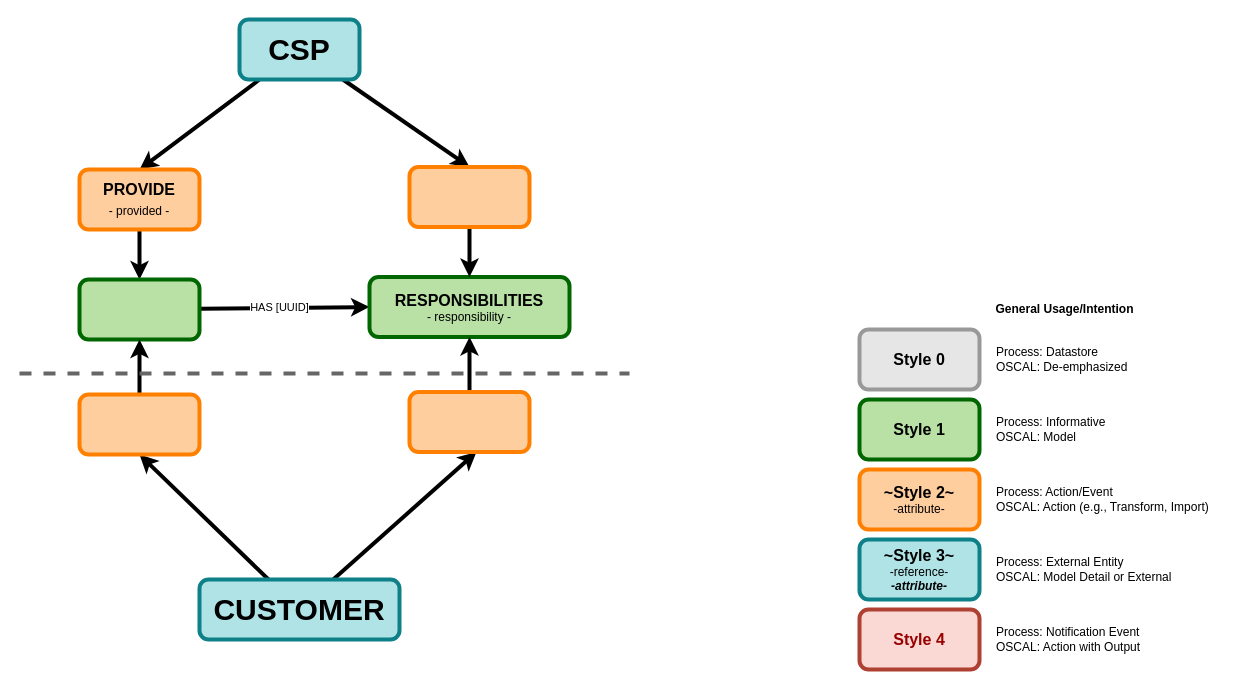
Image size: 1241x688. Some labels were removed from this diagram. The centre of each missing label's shape, as x and y in pixels:
"CAPABILITY" goes at [139,309].
"DEFINE" goes at [469,196].
"INHERIT - inherited -" goes at [139,424].
"SATISFY - satisfied -" goes at [469,422].
